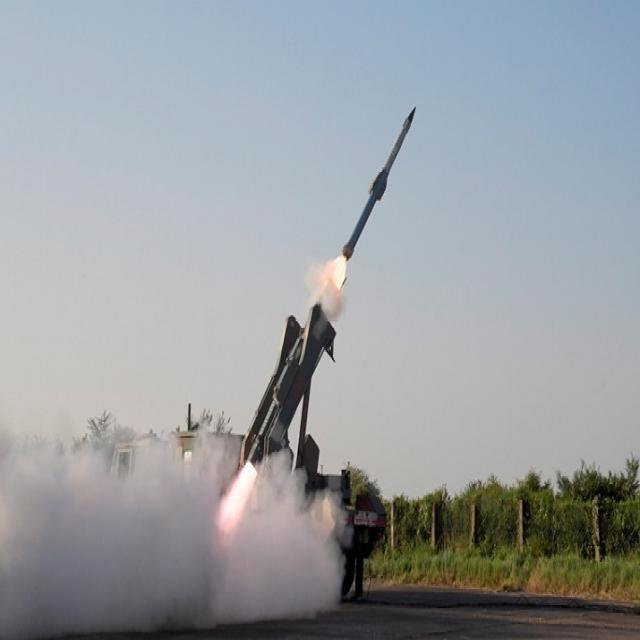missile: (338, 103, 418, 267)
